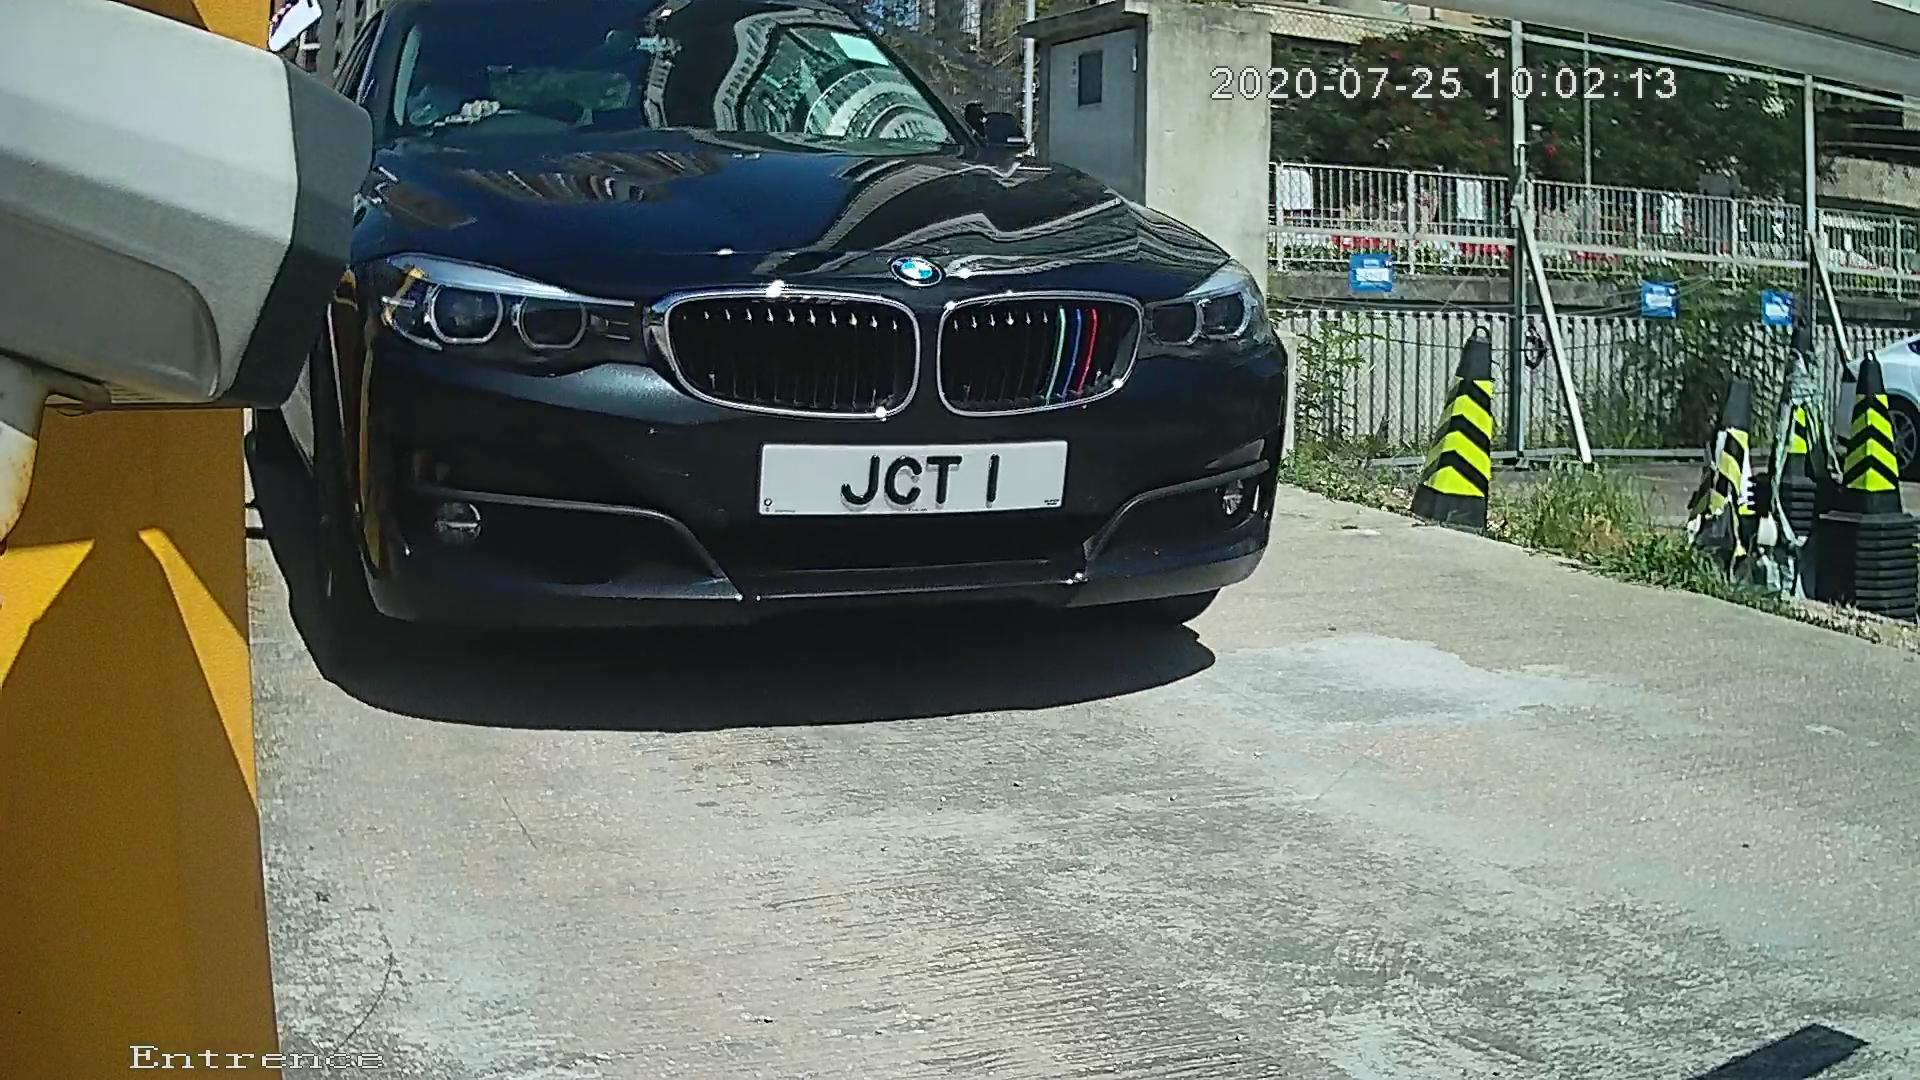License Plate: (729, 430, 1072, 531)
